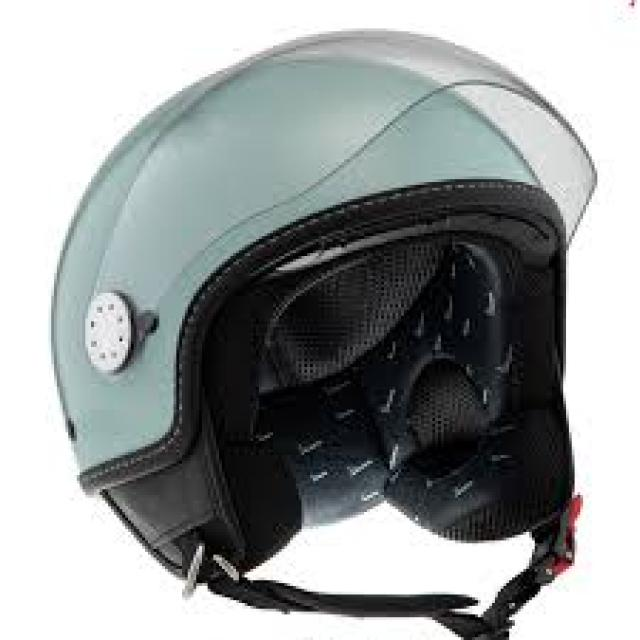Helmet: (54, 32, 595, 640)
